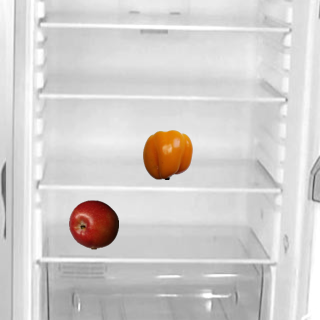Apple Braeburn: (68, 199, 118, 249)
Pepper Yellow: (142, 129, 192, 179)
